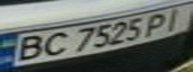2: (109, 19, 133, 47)
5: (124, 16, 151, 42), (93, 21, 115, 50)
7: (69, 25, 97, 54)
B: (6, 33, 51, 63)
C: (36, 30, 72, 59)
I: (157, 7, 190, 33)
P: (139, 11, 175, 38)
